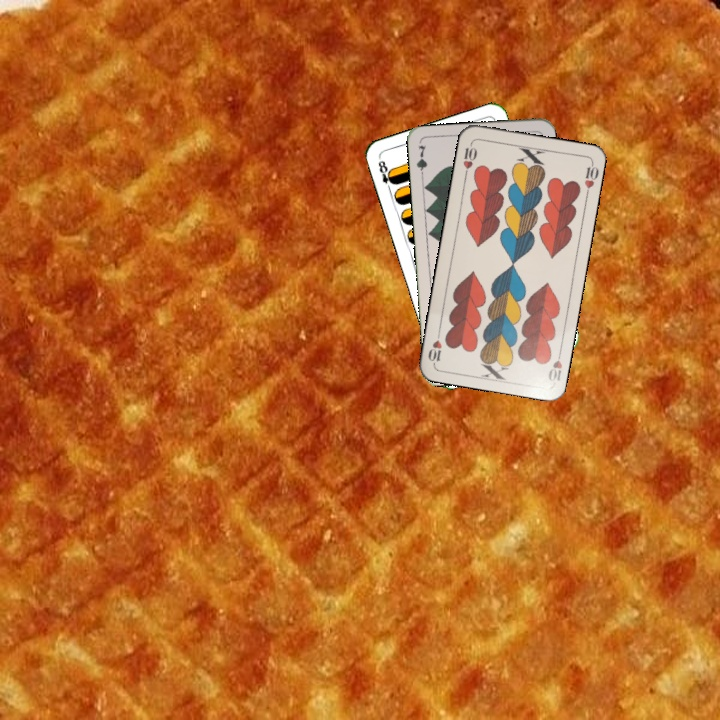E8: (374, 156, 397, 194)
G7: (413, 141, 430, 181)
H10: (459, 138, 479, 179), (544, 345, 565, 384)
